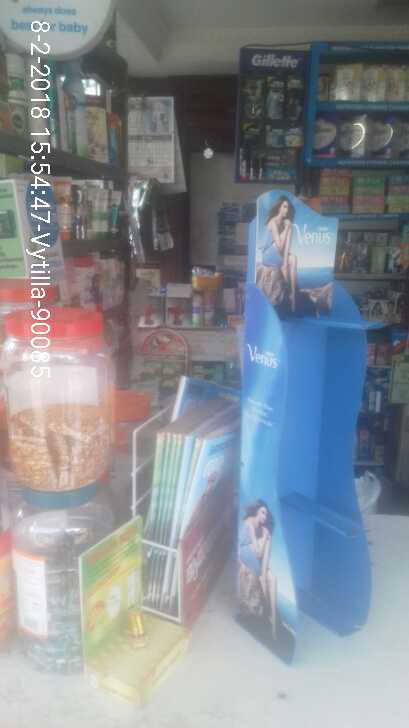reject: (100, 270, 207, 342)
